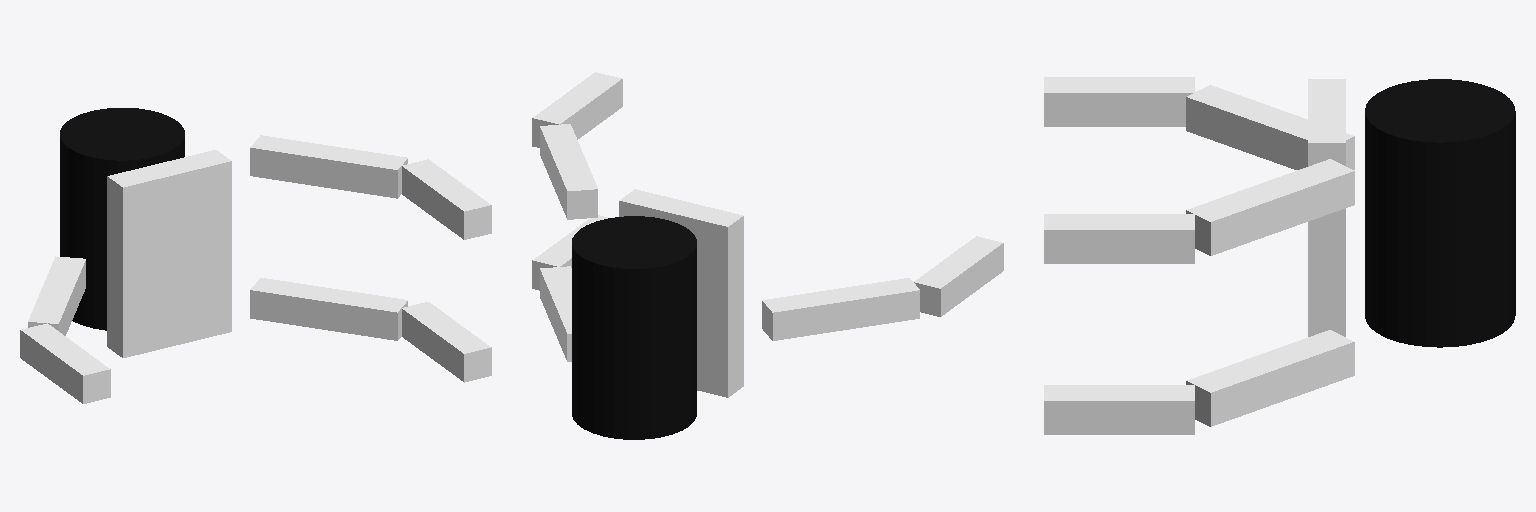
robot.urdf — visual:
<?xml version="1.0"?>
<robot name="visual">
  <link name="motor">
  <inertial>
    <mass value="1"/>
    <inertia ixx="100" ixy="0" ixz="0" iyy="100" iyz="0" izz="100" />
    <origin/>
  </inertial>
    <visual>
      <geometry>
        <cylinder length="0.6" radius=".2"/>
      </geometry>
      <material name="black">

      <color rgba=".1 .1 .1 1"/>
      </material>
    </visual>
  <collision>
    <origin xyz="0 0 0"/>
    <geometry>
      <cylinder length="0.6" radius=".2"/>
    </geometry>
    <contact_coefficients mu="0" kp="1000.0" kd="1.0"/>
  </collision>
 <gazebo reference="motor">
    <material>Gazebo/White</material>
  </gazebo>
  </link>
 

  <link name="base">
  <inertial>
    <mass value="1"/>
    <inertia ixx="100" ixy="0" ixz="0" iyy="100" iyz="0" izz="100" />
    <origin/>
  </inertial>
    <visual>
      <geometry>
        <box size="0.4 .1 .6"/>
      </geometry>
      <origin rpy="0 0 0" xyz="0 -0.15 0"/>
      <material name="white">
        <color rgba="1 1 1 1"/>
      </material>
    </visual>
  <collision>
      <origin rpy="0 0 0" xyz="0 -0.15 0"/>
    <geometry>
        <box size="0.4 .1 .6"/>
    </geometry>
    <contact_coefficients mu="0" kp="1000.0" kd="1.0"/>
  </collision>
  </link>

  <joint name="motor_to_base" type="fixed">
    <parent link="motor"/>
    <child link="base"/>
    <origin xyz="0 -0.15 0"/>
  </joint>


  <link name="left_finger">
  <inertial>
    <mass value="1"/>
    <inertia ixx="100" ixy="0" ixz="0" iyy="100" iyz="0" izz="100" />
    <origin/>
  </inertial>
    <visual>
      <geometry>
        <box size="0.1 .5 .1"/>
      </geometry>
      <origin rpy="0 0 -0.7" xyz="-0.4 -0.3 0"/>
      <material name="white">
        <color rgba="1 1 1 1"/>
      </material>
    </visual>
  <collision>
      <origin rpy="0 0 -0.7" xyz="-0.4 -0.3 0"/>
    <geometry>
        <box size="0.1 .5 .1"/>
    </geometry>
    <contact_coefficients mu="0" kp="1000.0" kd="1.0"/>
  </collision>
  </link>

  <joint name="base_to_left_finger" type="revolute">
    <axis xyz="0 0 1"/>
    <limit effort="1000.0" lower="0.0" upper="0.7" velocity="0.5"/>
    <parent link="base"/>
    <child link="left_finger"/>
    <origin xyz="-0.1 0 0"/>
  </joint>

  <link name="right_finger1">
  <inertial>
    <mass value="1"/>
    <inertia ixx="100" ixy="0" ixz="0" iyy="100" iyz="0" izz="100" />
    <origin/>
  </inertial>
    <visual>
      <geometry>
        <box size="0.1 .5 .1"/>
      </geometry>
      <origin rpy="0 0 0.7" xyz="0.4 -0.3 0.25"/>
      <material name="white">
        <color rgba="1 1 1 1"/>
      </material>
    </visual>
  <collision>
      <origin rpy="0 0 0.7" xyz="0.4 -0.3 0.25"/>
    <geometry>
        <box size="0.1 .5 .1"/>
    </geometry>
    <contact_coefficients mu="0" kp="1000.0" kd="1.0"/>
  </collision>
  </link>

  <joint name="base_to_right_finger1" type="revolute">
    <axis xyz="0 0 1"/>
    <limit effort="1000.0" lower="-0.7" upper="0.0" velocity="0.5"/>
    <parent link="base"/>
    <child link="right_finger1"/>
    <origin xyz=".1 0 0"/>
  </joint>

  <link name="right_finger2">
  <inertial>
    <mass value="1"/>
    <inertia ixx="100" ixy="0" ixz="0" iyy="100" iyz="0" izz="100" />
    <origin/>
  </inertial>
    <visual>
      <geometry>
        <box size="0.1 .5 .1"/>
      </geometry>
      <origin rpy="0 0 0.7" xyz="0.4 -0.3 -0.25"/>
      <material name="white">
        <color rgba="1 1 1 1"/>
      </material>
    </visual>
  <collision>
      <origin rpy="0 0 0.7" xyz="0.4 -0.3 -0.25"/>
    <geometry>
        <box size="0.1 .5 .1"/>
    </geometry>
    <contact_coefficients mu="0" kp="1000.0" kd="1.0"/>
  </collision>
  </link>

  <joint name="base_to_right_finger2" type="revolute">
    <axis xyz="0 0 1"/>
    <limit effort="1000.0" lower="-0.7" upper="0.0" velocity="0.5"/>
    <parent link="base"/>
    <child link="right_finger2"/>
    <origin xyz=".1 0 0"/>
  </joint>

  <link name="left_fingertip">
  <inertial>
    <mass value="1"/>
    <inertia ixx="100" ixy="0" ixz="0" iyy="100" iyz="0" izz="100" />
    <origin/>
  </inertial>
    <visual>
      <geometry>
        <box size="0.1 .4 .1"/>
      </geometry>
      <origin rpy="0 0 0" xyz="0 -0.2 0"/>
      <material name="white">
        <color rgba="1 1 1 1"/>
      </material>
    </visual>
  <collision>
      <origin rpy="0 0 0" xyz="0 -0.2 0"/>
    <geometry>
        <box size="0.1 .4 .1"/>
    </geometry>
    <contact_coefficients mu="0" kp="1000.0" kd="1.0"/>
  </collision>
  </link>

  <joint name="left_finger_to_left_fingertip" type="revolute">
    <axis xyz="0 0 1"/>
    <limit effort="1.0" lower="0" upper="0.9" velocity="0.5"/>
    <parent link="left_finger"/>
    <child link="left_fingertip"/>
    <origin xyz="-0.6 -0.5 0"/>
  </joint>

  <link name="right_fingertip1">
  <inertial>
    <mass value="1"/>
    <inertia ixx="100" ixy="0" ixz="0" iyy="100" iyz="0" izz="100" />
    <origin/>
  </inertial>
    <visual>
      <geometry>
        <box size="0.1 .4 .1"/>
      </geometry>
      <origin rpy="0 0 0" xyz="0 -0.2 0"/>
      <material name="white">
        <color rgba="1 1 1 1"/>
      </material>
    </visual>
  <collision>
      <origin rpy="0 0 0" xyz="0 -0.2 0"/>
    <geometry>
        <box size="0.1 .4 .1"/>
    </geometry>
    <contact_coefficients mu="0" kp="1000.0" kd="1.0"/>
  </collision>
  </link>

  <joint name="right_finger1_to_right_fingertip1" type="revolute">
    <axis xyz="0 0 1"/>
    <limit effort="1.0" lower="-0.9" upper="0.0" velocity="0.5"/>
    <parent link="right_finger1"/>
    <child link="right_fingertip1"/>
    <origin xyz="0.6 -0.5 0.25"/>
  </joint>

  <link name="right_fingertip2">
  <inertial>
    <mass value="1"/>
    <inertia ixx="100" ixy="0" ixz="0" iyy="100" iyz="0" izz="100" />
    <origin/>
  </inertial>
    <visual>
      <geometry>
        <box size="0.1 .4 .1"/>
      </geometry>
      <origin rpy="0 0 0" xyz="0 -0.2 0"/>
      <material name="white">
        <color rgba="1 1 1 1"/>
      </material>
    </visual>
  <collision>
     <origin rpy="0 0 0" xyz="0 -0.2 0"/>
    <geometry>
        <box size="0.1 .4 .1"/>
    </geometry>
    <contact_coefficients mu="0" kp="1000.0" kd="1.0"/>
  </collision>
  </link>

  <joint name="right_finger2_to_right_fingertip2" type="revolute">
    <axis xyz="0 0 1"/>
    <limit effort="1.0" lower="-0.9" upper="0.0" velocity="0.5"/>
    <parent link="right_finger2"/>
    <child link="right_fingertip2"/>
    <origin xyz="0.6 -0.5 -0.25"/>
  </joint>

</robot>

--- Facts derived from the render (not from the file) ---
Views: 3 orthographic renders of the robot side by side, from view 1: azimuth 30°, elevation 25°; view 2: azimuth 150°, elevation 25°; view 3: azimuth 270°, elevation 25°.
Robot: visual — 8 links, 7 joints (6 revolute, 1 fixed); root link motor; default pose: all joints at 0.
Visible links, largest first — view 1: base, motor, right_finger2, right_finger1, left_fingertip, right_fingertip1, right_fingertip2, left_finger; view 2: motor, base, left_finger, left_fingertip, right_finger1, right_fingertip1, right_finger2, right_fingertip2; view 3: motor, right_finger1, right_finger2, base, right_fingertip1, right_fingertip2, left_fingertip, left_finger.
Boxes of the visible links, x1,y1,x2,y2 form: base: (107, 150, 231, 357); motor: (60, 108, 184, 330); right_finger2: (250, 278, 407, 340); right_finger1: (250, 135, 407, 198); left_fingertip: (20, 323, 110, 403); right_fingertip1: (402, 159, 491, 239); right_fingertip2: (402, 302, 491, 382); left_finger: (28, 256, 85, 335); motor: (572, 216, 696, 439); base: (619, 189, 743, 397); left_finger: (762, 278, 919, 340); left_fingertip: (914, 236, 1003, 316); right_finger1: (540, 124, 597, 219); right_fingertip1: (532, 72, 622, 147); right_finger2: (540, 266, 571, 361); right_fingertip2: (532, 215, 607, 290); motor: (1365, 79, 1515, 347); right_finger1: (1186, 159, 1354, 255); right_finger2: (1186, 330, 1354, 426); base: (1308, 79, 1345, 336); right_fingertip1: (1044, 214, 1194, 263); right_fingertip2: (1044, 385, 1194, 434); left_fingertip: (1044, 77, 1194, 126); left_finger: (1186, 85, 1354, 169).
Bounding box of the posed robot: 1.5 × 1.25 × 0.6 m (x, y, z).
Geometry: primitives only (box / cylinder / sphere), no mesh files.